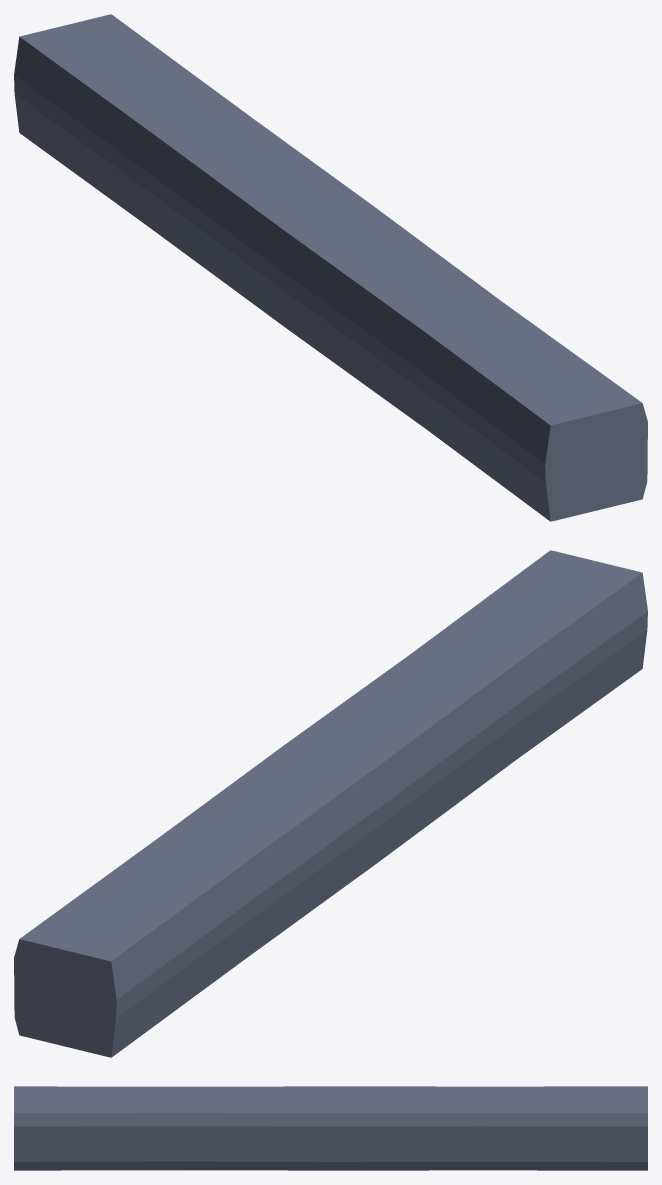
Rendered from FloorTrim.fbx.
3 views of the same model, one above another, from view 1: azimuth 30°, elevation 25°; view 2: azimuth 150°, elevation 25°; view 3: azimuth 270°, elevation 25° (orthographic). The views are drawn at different scales.
Visible parts, largest first — view 1: FloorTrim; view 2: FloorTrim; view 3: FloorTrim.
Part boxes in pixels (x1,y1,x2,y2): FloorTrim: (14,14,647,521); FloorTrim: (14,550,647,1057); FloorTrim: (14,1086,647,1170).
Size of the model in its own units: 0.2231 by 0.2 by 2.
